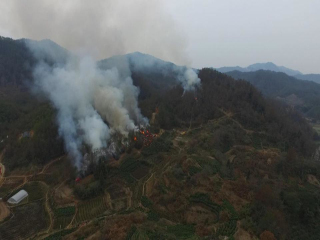smoke: (28, 16, 203, 175)
